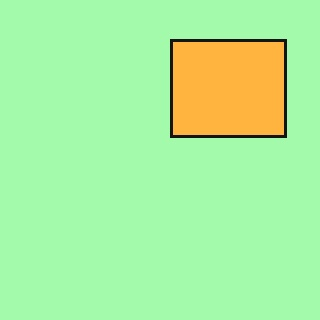square_target: (171, 39, 287, 137)
